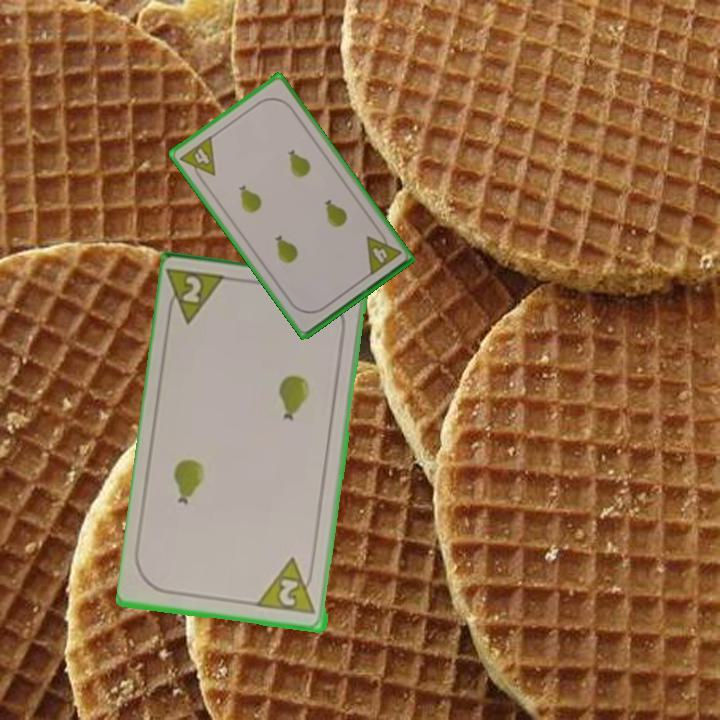2p: (163, 265, 232, 328), (256, 555, 319, 618)
4p: (176, 132, 218, 186), (362, 226, 404, 278)
